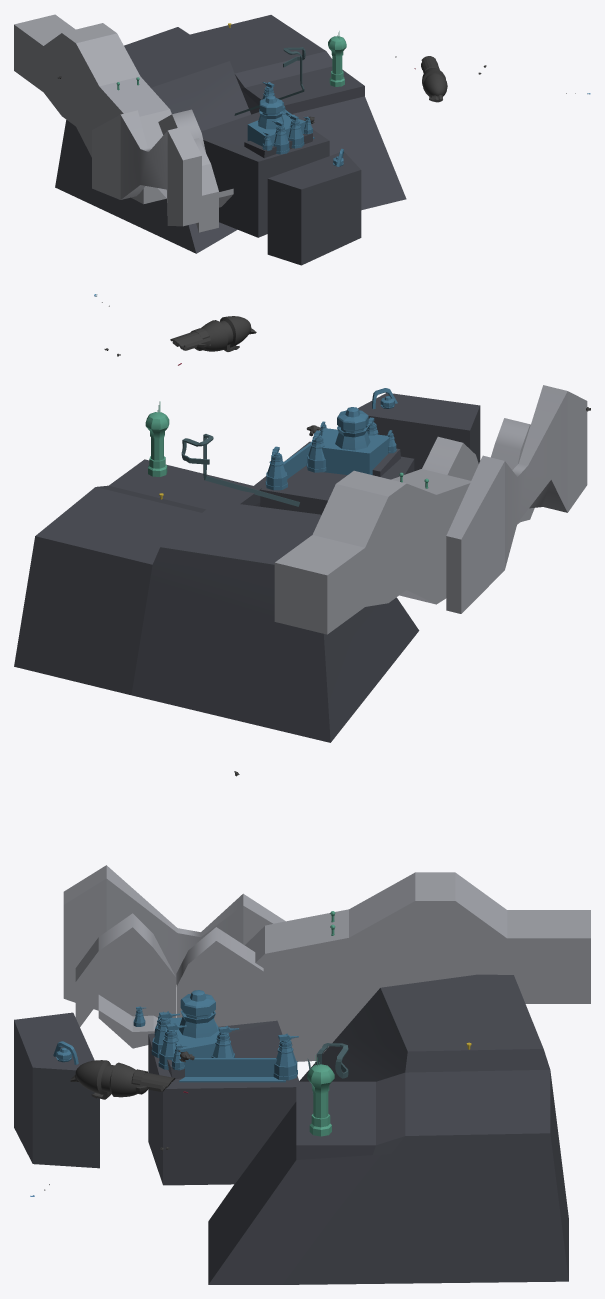
Rendered from grouped setting.fbx.
The picture shows the model from 3 angles, top to bottom: view 1: azimuth 30°, elevation 25°; view 2: azimuth 150°, elevation 25°; view 3: azimuth 270°, elevation 25°; orthographic projection. The views are drawn at different scales.
Visible parts, largest first — view 1: rock_platform_magnet, main_mnt, rock_platform_corner, back_mnt, Rock_platform_main, front_mnt, mothership, closest_mnt, pCylinder8, pCylinder4, pCube1, magnet_path (+2 smaller); view 2: rock_platform_magnet, main_mnt, back_mnt, rock_platform_corner, Rock_platform_main, pCube1, mothership, closest_mnt, front_mnt, pCylinder8, pCylinder4, magnet_path (+1 smaller); view 3: rock_platform_magnet, main_mnt, Rock_platform_main, rock_platform_corner, back_mnt, front_mnt, closest_mnt, mothership, wall, pCylinder8, pCylinder4, pCube1 (+1 smaller).
Boxes of the visible parts, x1,y1,x2,y2 form: rock_platform_magnet: (55,15,406,253); main_mnt: (14,14,171,204); rock_platform_corner: (267,152,361,265); back_mnt: (92,110,201,226); Rock_platform_main: (201,112,329,237); front_mnt: (194,138,233,232); mothership: (421,56,447,102); closest_mnt: (158,109,205,152); pCylinder8: (258,95,283,129); pCylinder4: (328,36,346,86); pCube1: (247,114,305,146); magnet_path: (234,47,305,115); rock_platform_magnet: (14,459,419,742); main_mnt: (274,469,470,634); back_mnt: (446,385,587,613); rock_platform_corner: (358,393,480,471); Rock_platform_main: (254,441,414,514); pCube1: (322,428,389,474); mothership: (170,316,256,351); closest_mnt: (422,436,478,480); front_mnt: (491,418,534,524); pCylinder8: (335,407,370,450); pCylinder4: (145,412,169,476); magnet_path: (181,434,299,506); rock_platform_magnet: (208,974,568,1284); main_mnt: (245,872,590,1061); Rock_platform_main: (148,1020,299,1185); rock_platform_corner: (14,1012,99,1168); back_mnt: (63,865,285,1010); front_mnt: (75,913,175,1048); closest_mnt: (176,927,263,1026); mothership: (70,1060,175,1099); wall: (179,1058,285,1082); pCylinder8: (179,990,217,1038); pCylinder4: (307,1064,334,1136); pCube1: (169,1017,219,1057).
Size of the model in its own units: 14623 by 6392 by 11198.
